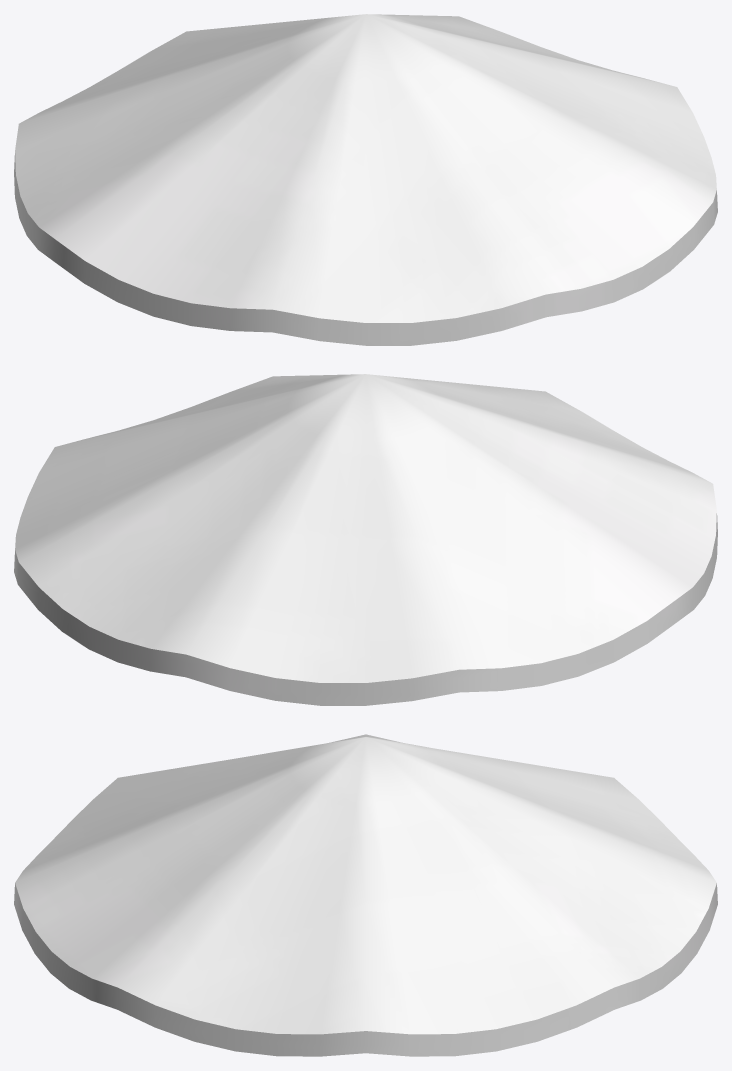
Rendered from roof_parasol_canopy.glb.
3 views of the same model, one above another, from view 1: azimuth 30°, elevation 25°; view 2: azimuth 150°, elevation 25°; view 3: azimuth 270°, elevation 25° (orthographic). The views are drawn at different scales.
Parts seen in each view (by area): view 1: roof_parasol_canopy; view 2: roof_parasol_canopy; view 3: roof_parasol_canopy.
Part boxes in pixels (x1,y1,x2,y2): roof_parasol_canopy: [14, 14, 717, 345]; roof_parasol_canopy: [14, 374, 717, 705]; roof_parasol_canopy: [14, 734, 717, 1056].
Bounding box in the file's own units: 3.51 × 0.9956 × 3.51.
1 material, 1 textured.
